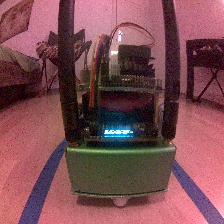rob: (63, 43, 177, 208)
